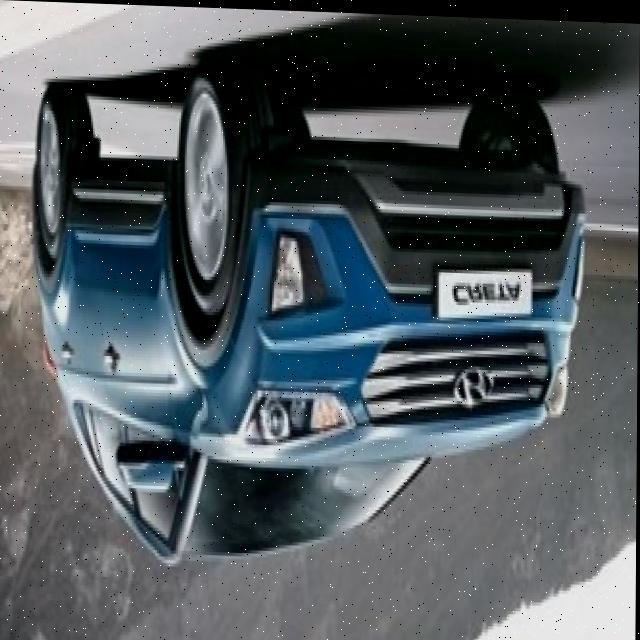plate: (439, 262, 533, 319)
